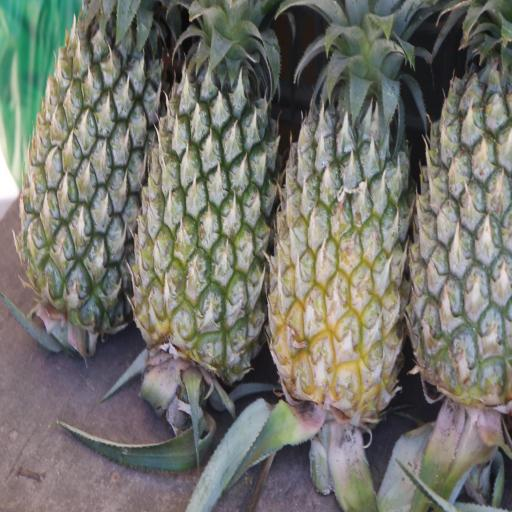------------------------------: (262, 0, 416, 432)
